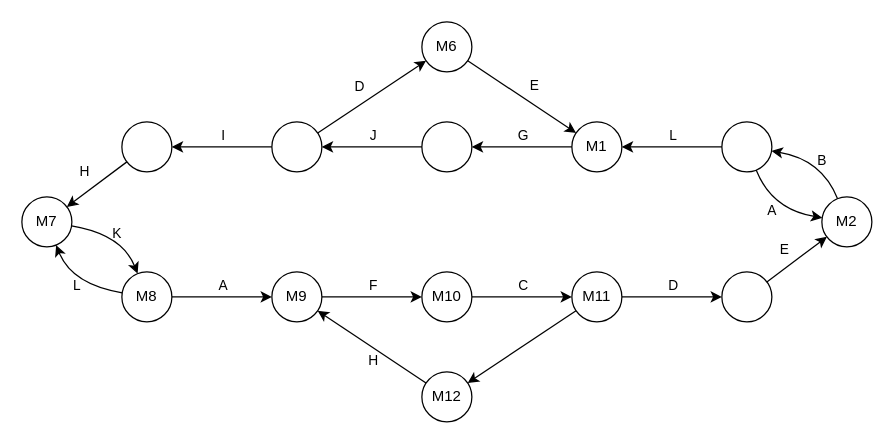
This 894x444 diagram has some shape labels left out. The shapes that lost their labels are listed below. From the top down, each one's centre as x and y in pixels, then its label:
(146,146): M5
(296,146): M4
(446,146): M3
(746,146): M0
(746,296): M13
